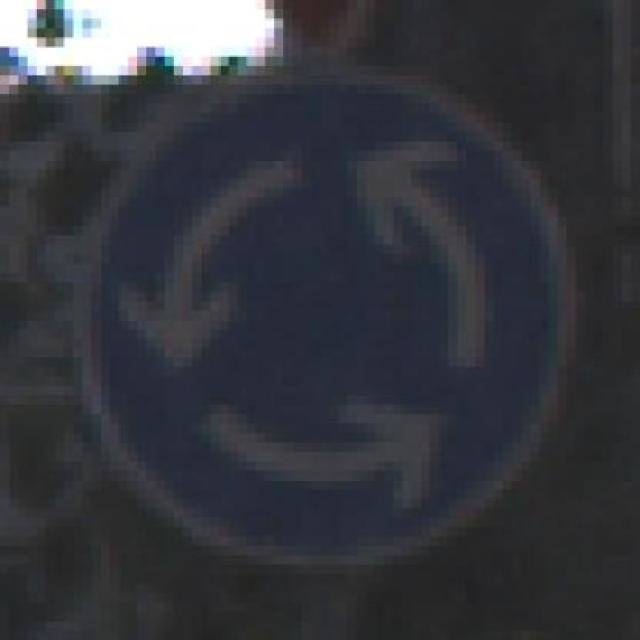Round-About: (55, 47, 613, 584)
